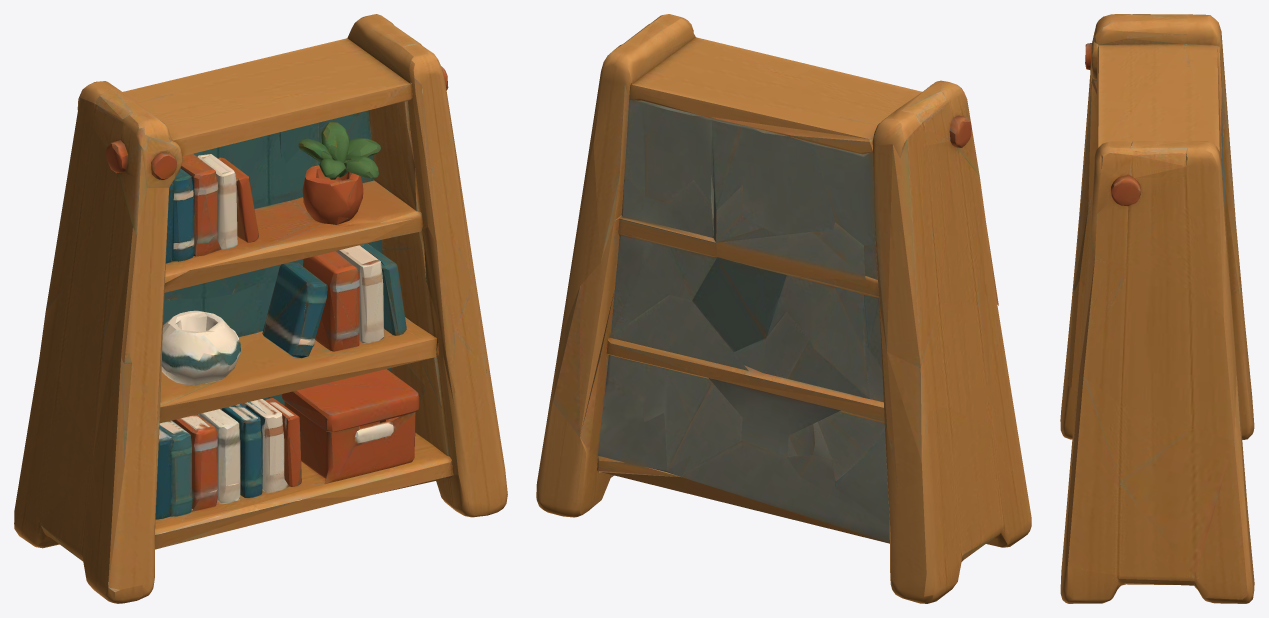
The model's file is model-lounge-redesign-archiveBookcase-f9438d983785.glb.
The picture shows the model from 3 angles, left to right: view 1: azimuth 30°, elevation 25°; view 2: azimuth 150°, elevation 25°; view 3: azimuth 270°, elevation 25°; orthographic projection. The views are drawn at different scales.
Parts seen in each view (by area): view 1: Mesh_0; view 2: Mesh_0; view 3: Mesh_0.
Boxes of the visible parts, x1,y1,x2,y2 form: Mesh_0: (14, 14, 507, 603); Mesh_0: (536, 14, 1031, 603); Mesh_0: (1060, 14, 1254, 603).
Bounding box in the file's own units: 0.9208 × 1 × 0.4043.
Materials: 1 (1 with a texture image).
